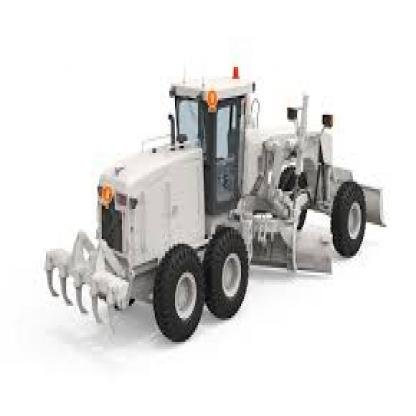bull_dozer/loader/grader: (53, 62, 390, 337)
